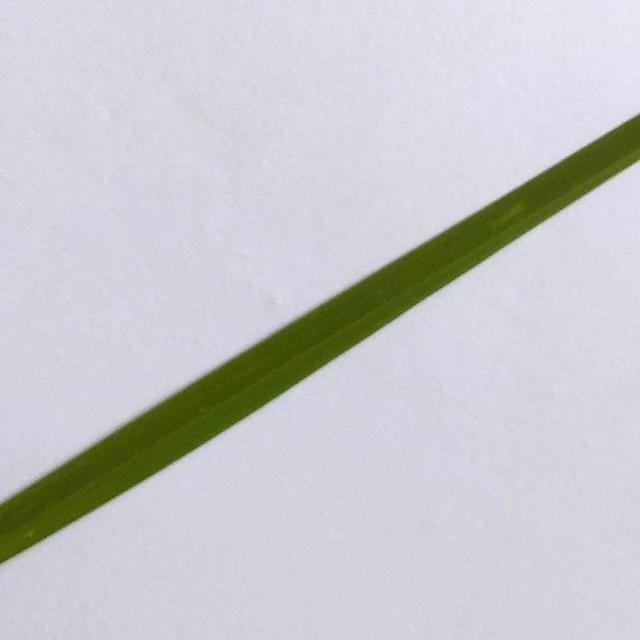healthy: (0, 105, 640, 582)
